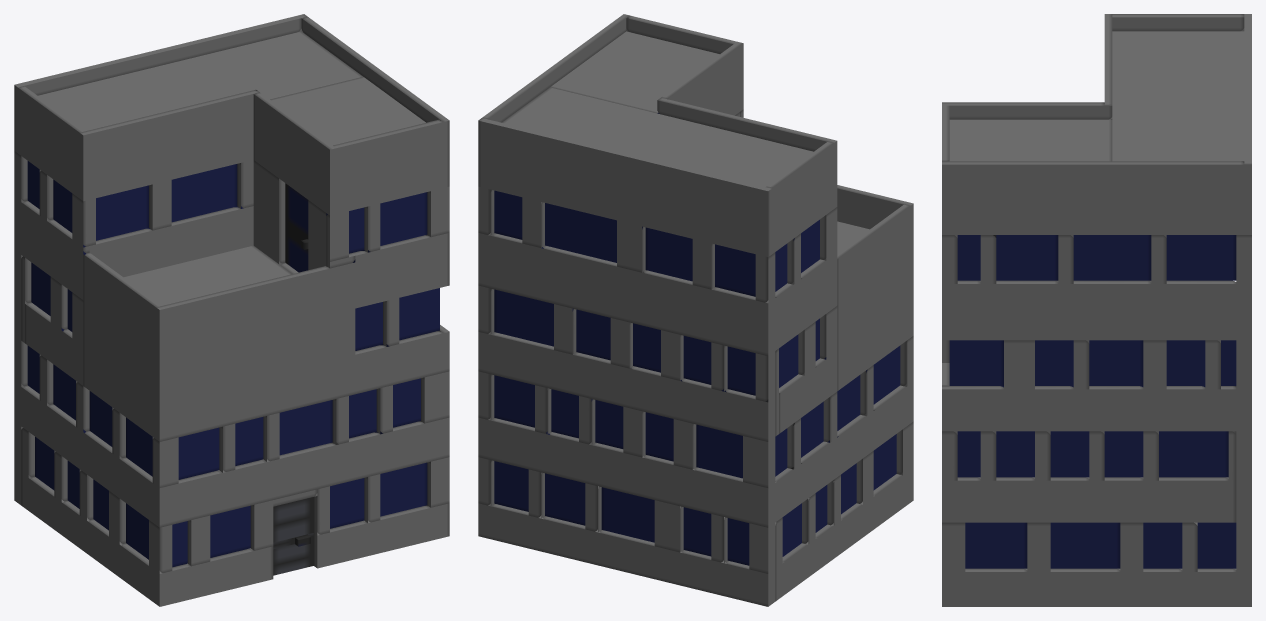
Rendered from budynek_001.dae.
3 renders of one model, left to right at view 1: azimuth 30°, elevation 25°; view 2: azimuth 150°, elevation 25°; view 3: azimuth 270°, elevation 25°, orthographic. The views are drawn at different scales.
Parts seen in each view (by area): view 1: Content; view 2: Content; view 3: Content.
Part boxes in pixels (x1,y1,x2,y2): Content: [14, 14, 449, 606]; Content: [478, 14, 913, 606]; Content: [942, 14, 1251, 606].
Bounding box in the file's own units: 46 × 63 × 40.
Materials: 1 (1 with a texture image).
